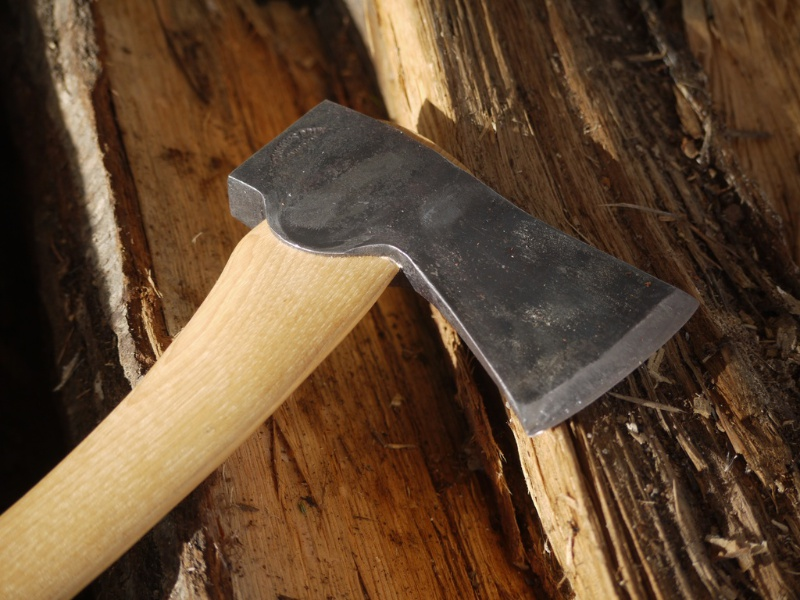axe: (204, 88, 705, 438)
